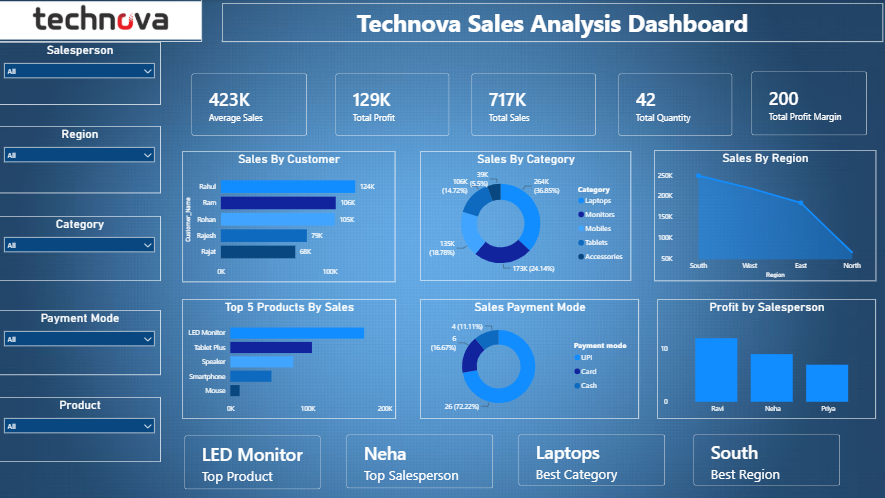

The page's visual inventory and layout, read from the dashboard file:
{"tool":"powerbi","page":{"name":"Page 1","canvas":[1280,720],"ordinal":0},"visuals":[{"type":"lineChart","title":"Category Wise Monthly Sales Trend","fields":{"Category":["Order_ID (Sheet1).Category"],"Y":["CountNonNull(Order_ID (Sheet1).Order_ID)"]},"box":[944.6,159.8,301,208.8],"z":0},{"type":"columnChart","title":"Sales By Region","fields":{"Category":["Order_ID (Sheet1).Region"],"Y":["Sum(Order_ID (Sheet1).Sales_Amount)"]},"box":[950.4,434.9,301,216],"z":1000},{"type":"clusteredBarChart","title":"Sales By Category","fields":{"Category":["Order_ID (Sheet1).Category"],"Y":["Sum(Order_ID (Sheet1).Sales_Amount)"]},"box":[645.1,442.1,267.8,205.9],"z":2000},{"type":"barChart","title":"Top 5 Products","fields":{"Category":["Order_ID (Sheet1).Product"],"Y":["Sum(Order_ID (Sheet1).Sales_Amount)"]},"box":[560.2,168.5,301,200.2],"z":3000},{"type":"columnChart","title":"Salesperson performance by Profit","fields":{"Category":["Order_ID (Sheet1).Salesperson"],"Y":["Sum(Order_ID (Sheet1).Profit)"]},"box":[270.7,159.8,230.4,208.8],"z":4000},{"type":"donutChart","title":" Payment mode ","fields":{"Y":["CountNonNull(Order_ID (Sheet1).Payment mode)"],"Category":["Order_ID (Sheet1).Payment mode"]},"box":[285.1,445,296.6,188.6],"z":5000},{"type":"slicer","fields":{"Values":["Order_ID (Sheet1).Region"]},"box":[753.1,0,118.1,142.6],"z":6000},{"type":"slicer","fields":{"Values":["Order_ID (Sheet1).Product"]},"box":[882.7,0,123.8,142.6],"z":7000},{"type":"slicer","fields":{"Values":["Order_ID (Sheet1).Category"]},"box":[1025.3,2.9,110.9,149.8],"z":8000},{"type":"slicer","fields":{"Values":["Order_ID (Sheet1).Payment mode"]},"box":[1150.6,0,113.8,149.8],"z":9000},{"type":"pieChart","title":"Sales Amount per customer name","fields":{"Category":["Order_ID (Sheet1).Customer_Name"],"Y":["Sum(Order_ID (Sheet1).Sales_Amount)"]},"box":[0,159.8,239,229],"z":10000},{"type":"donutChart","title":"Total Quantity Sold by Salesperson","fields":{"Category":["Order_ID (Sheet1).Salesperson"],"Y":["Sum(Order_ID (Sheet1).Total Quantity Sold)"]},"box":[0,445.1,238.5,203.3],"z":11000},{"type":"cardVisual","fields":{"Data":["Sum(Order_ID (Sheet1).Average Sales)"]},"box":[312.5,0,159.8,96.5],"z":12000},{"type":"cardVisual","fields":{"Data":["Sum(Order_ID (Sheet1).Sales_Amount)"]},"box":[452.2,0,161.3,96.5],"z":13000},{"type":"cardVisual","fields":{"Data":["Sum(Order_ID (Sheet1).Total Sales Revenue)"]},"box":[591.8,0,177.1,96.5],"z":14000},{"type":"image","box":[0,15.8,312.5,59],"z":15000}]}

Visuals, with their boxes in screenshot pixels (x1, y1, x2, y2), scaled from the page's 1280x720 canvas onto the 885x498 screenshot:
"Category Wise Monthly Sales Trend" lineChart: select_region(653, 111, 861, 255)
"Sales By Region" columnChart: select_region(657, 301, 865, 450)
"Sales By Category" clusteredBarChart: select_region(446, 306, 631, 448)
"Top 5 Products" barChart: select_region(387, 117, 595, 255)
"Salesperson performance by Profit" columnChart: select_region(187, 111, 346, 255)
" Payment mode " donutChart: select_region(197, 308, 402, 438)
slicer - Order_ID (Sheet1).Region: select_region(521, 0, 602, 99)
slicer - Order_ID (Sheet1).Product: select_region(610, 0, 696, 99)
slicer - Order_ID (Sheet1).Category: select_region(709, 2, 786, 106)
slicer - Order_ID (Sheet1).Payment mode: select_region(796, 0, 874, 104)
"Sales Amount per customer name" pieChart: select_region(0, 111, 165, 269)
"Total Quantity Sold by Salesperson" donutChart: select_region(0, 308, 165, 448)
cardVisual - Sum(Order_ID (Sheet1).Average Sales): select_region(216, 0, 327, 67)
cardVisual - Sum(Order_ID (Sheet1).Sales_Amount): select_region(313, 0, 424, 67)
cardVisual - Sum(Order_ID (Sheet1).Total Sales Revenue): select_region(409, 0, 532, 67)
image: select_region(0, 11, 216, 52)
